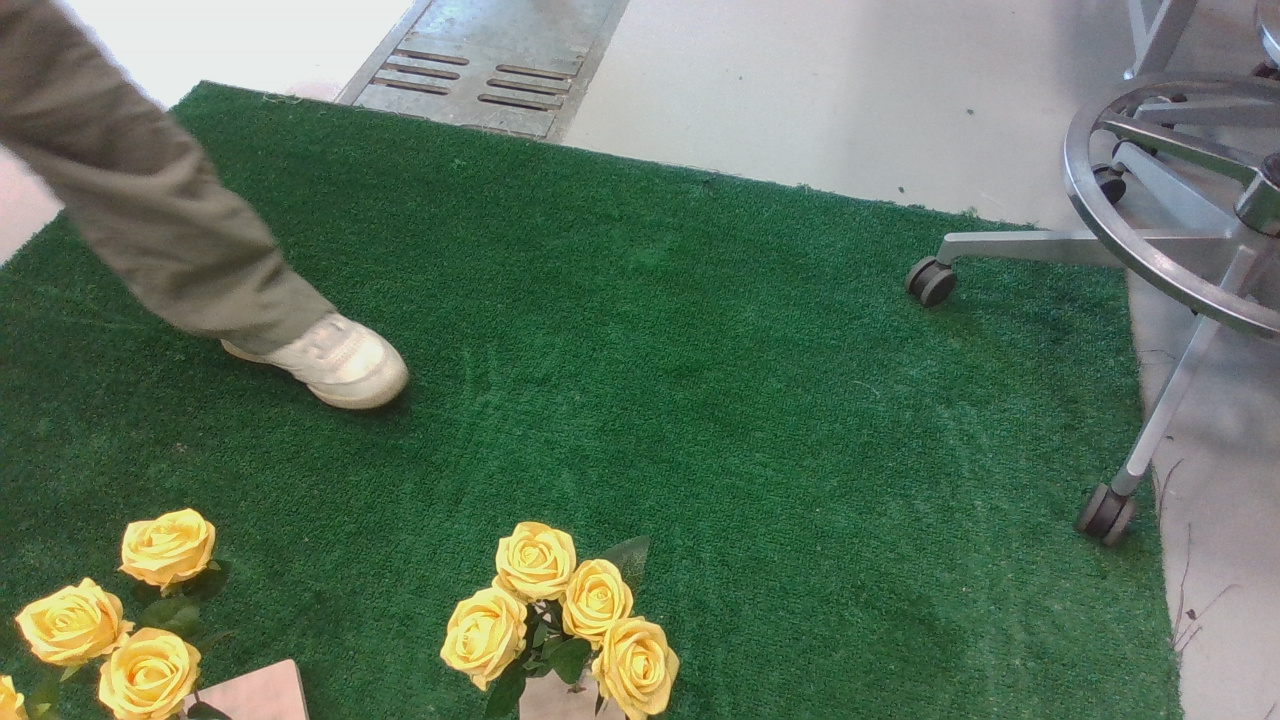rose: (438, 520, 708, 720), (2, 506, 252, 720)
